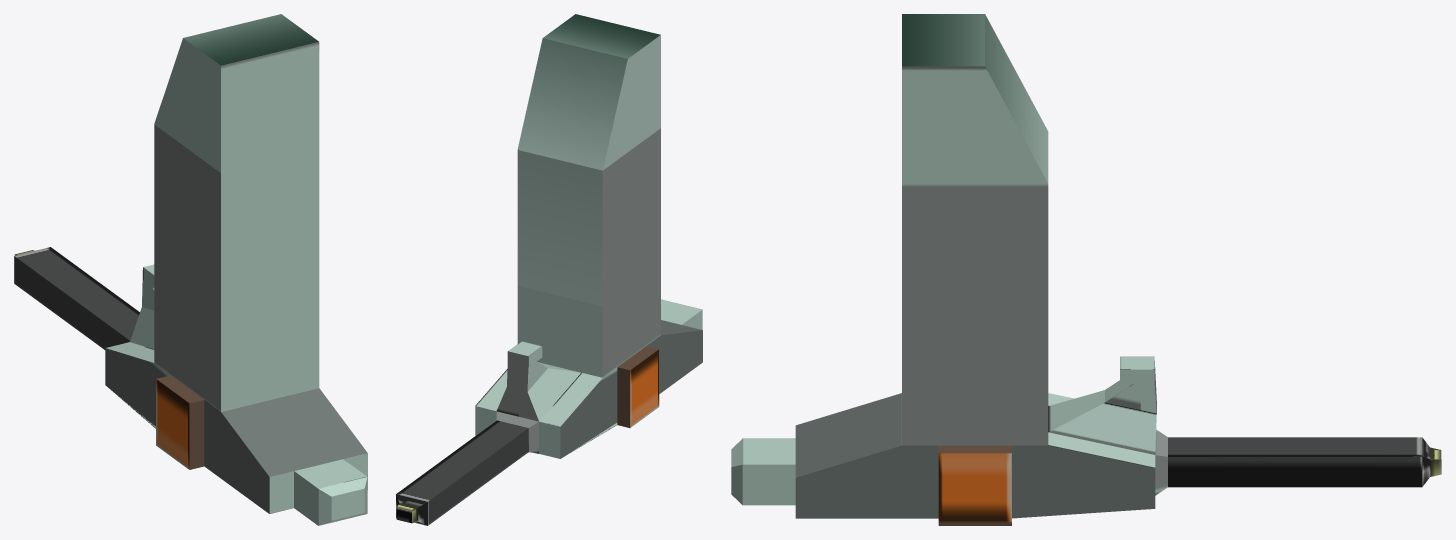
Rendered from machinegun.fbx.
3 views of the same model, side by side, from view 1: azimuth 30°, elevation 25°; view 2: azimuth 150°, elevation 25°; view 3: azimuth 270°, elevation 25° (orthographic). The views are drawn at different scales.
Parts seen in each view (by area): view 1: Cube.002; view 2: Cube.002; view 3: Cube.002.
Part boxes in pixels (x1,y1,x2,y2): Cube.002: (14, 14, 367, 525); Cube.002: (396, 14, 702, 525); Cube.002: (731, 14, 1441, 525).
Bounding box in the file's own units: 25.71 × 79.87 × 114.
